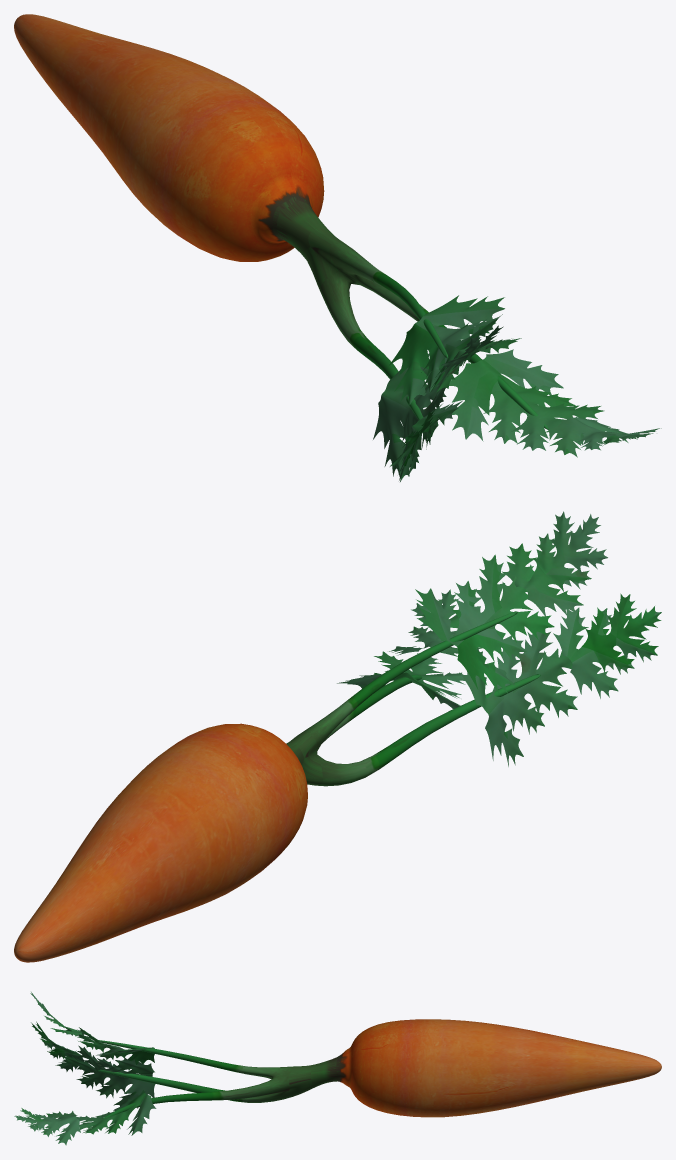
File: Carrot.glb
The picture shows the model from 3 angles, top to bottom: view 1: azimuth 30°, elevation 25°; view 2: azimuth 150°, elevation 25°; view 3: azimuth 270°, elevation 25°; orthographic projection. The views are drawn at different scales.
Visible parts, largest first — view 1: g 10170_Carrot_v01; view 2: g 10170_Carrot_v01; view 3: g 10170_Carrot_v01.
Boxes of the visible parts, box(x1,y1,x2,y2) form: g 10170_Carrot_v01: box(14, 14, 661, 481); g 10170_Carrot_v01: box(14, 511, 661, 962); g 10170_Carrot_v01: box(14, 992, 661, 1145).
Bounding box in the file's own units: 76.83 × 56.01 × 272.
Materials: 1 (1 with a texture image).
